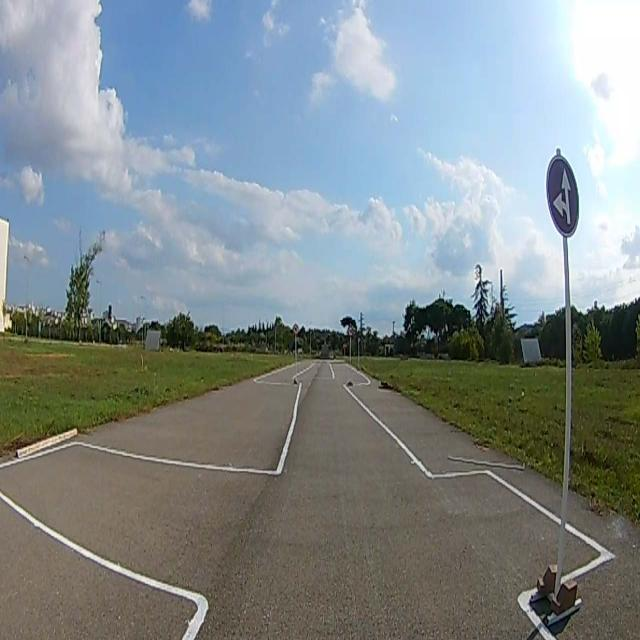ilerisol: (546, 157, 579, 238)
